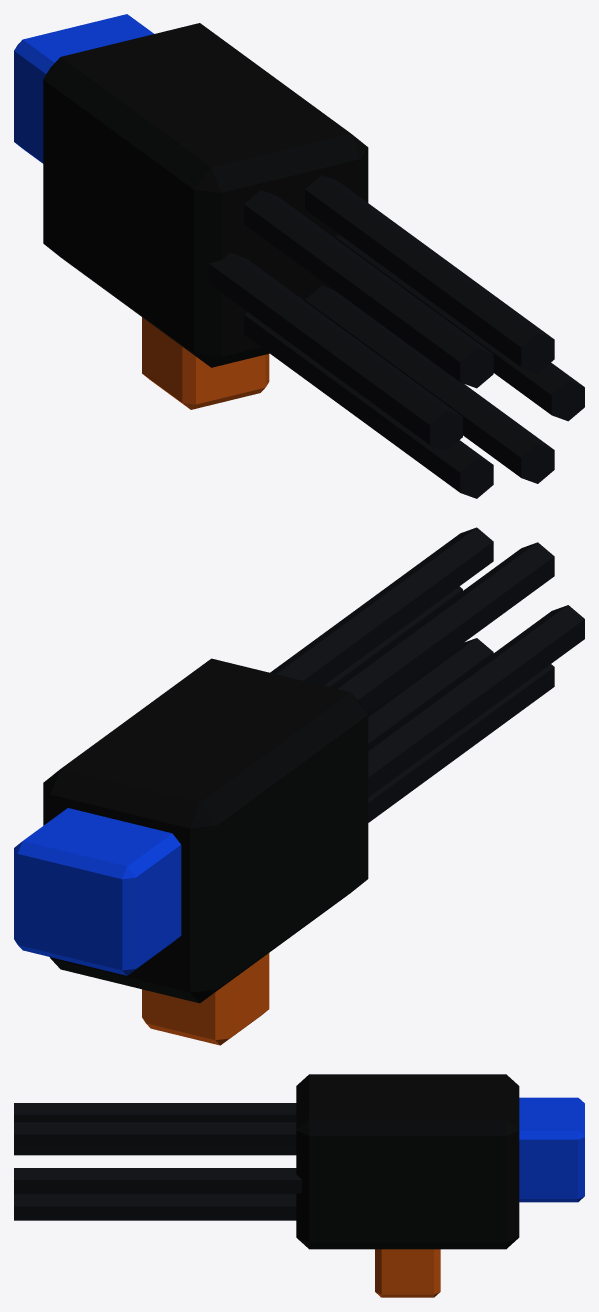
The model's file is minigun.glb.
3 renders of one model, top to bottom at view 1: azimuth 30°, elevation 25°; view 2: azimuth 150°, elevation 25°; view 3: azimuth 270°, elevation 25°, orthographic. The views are drawn at different scales.
Parts seen in each view (by area): view 1: minigun; view 2: minigun; view 3: minigun.
Part boxes in pixels (bbox=[...]): minigun: bbox=[14, 14, 584, 498]; minigun: bbox=[14, 527, 584, 1045]; minigun: bbox=[14, 1074, 584, 1297].
Bounding box in the file's own units: 0.2 × 0.32 × 0.87.
